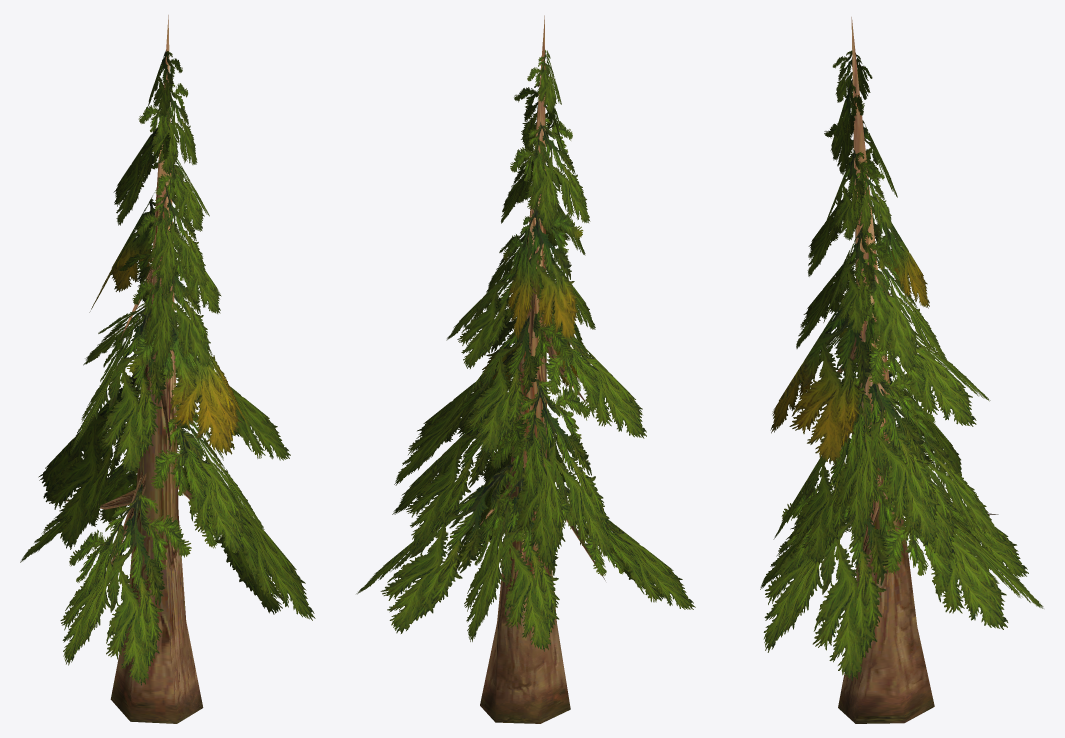
Rendered from environment_Tree_songshu_001_a.FBX.
The picture shows the model from 3 angles, left to right: view 1: azimuth 30°, elevation 25°; view 2: azimuth 150°, elevation 25°; view 3: azimuth 270°, elevation 25°; orthographic projection. The views are drawn at different scales.
Visible parts, largest first — view 1: environment_Tree_songshu_001_a01, environment_Tree_songshu_001_a03, environment_Tree_songshu_001_a02; view 2: environment_Tree_songshu_001_a01, environment_Tree_songshu_001_a03, environment_Tree_songshu_001_a02; view 3: environment_Tree_songshu_001_a01, environment_Tree_songshu_001_a03, environment_Tree_songshu_001_a02.
Boxes of the visible parts, bbox=[...] form: environment_Tree_songshu_001_a01: bbox=[20, 50, 315, 685]; environment_Tree_songshu_001_a03: bbox=[65, 15, 211, 723]; environment_Tree_songshu_001_a02: bbox=[89, 192, 249, 455]; environment_Tree_songshu_001_a01: bbox=[356, 50, 695, 651]; environment_Tree_songshu_001_a03: bbox=[480, 15, 605, 723]; environment_Tree_songshu_001_a02: bbox=[482, 202, 588, 386]; environment_Tree_songshu_001_a01: bbox=[760, 50, 1043, 680]; environment_Tree_songshu_001_a03: bbox=[837, 17, 998, 723]; environment_Tree_songshu_001_a02: bbox=[770, 192, 929, 464].
Size of the model in its own units: 308 by 753 by 316.
